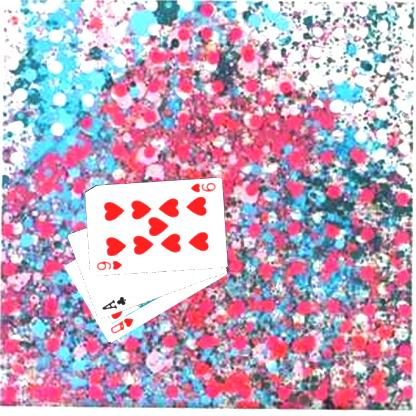9H: (94, 258, 124, 272), (187, 180, 217, 194)
AC: (99, 294, 127, 311)
QH: (107, 316, 135, 336)
